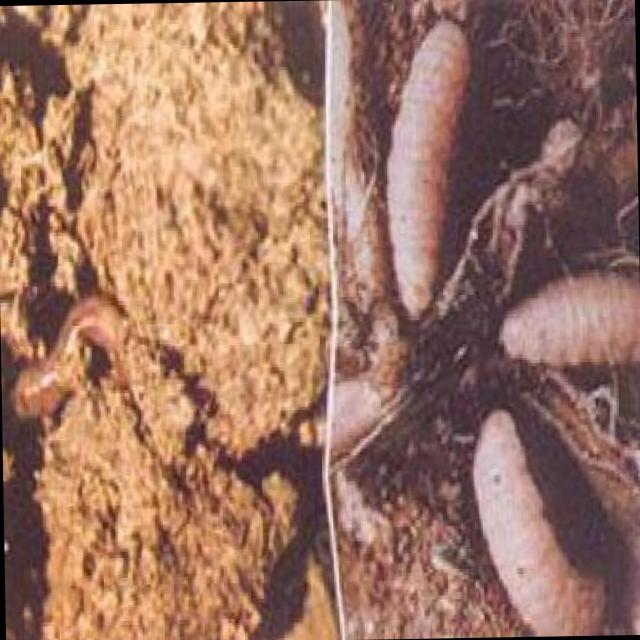whorl-maggot: (472, 411, 606, 636), (390, 17, 468, 323), (502, 275, 639, 366)
